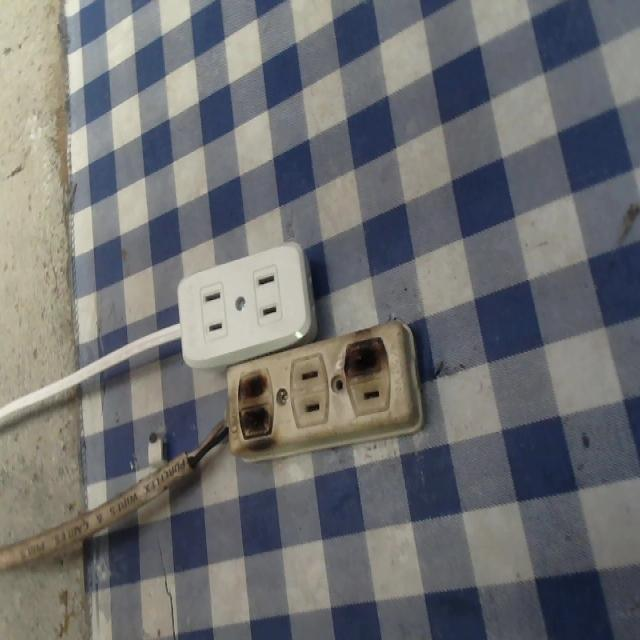-: (230, 364, 280, 443), (337, 332, 395, 381)
